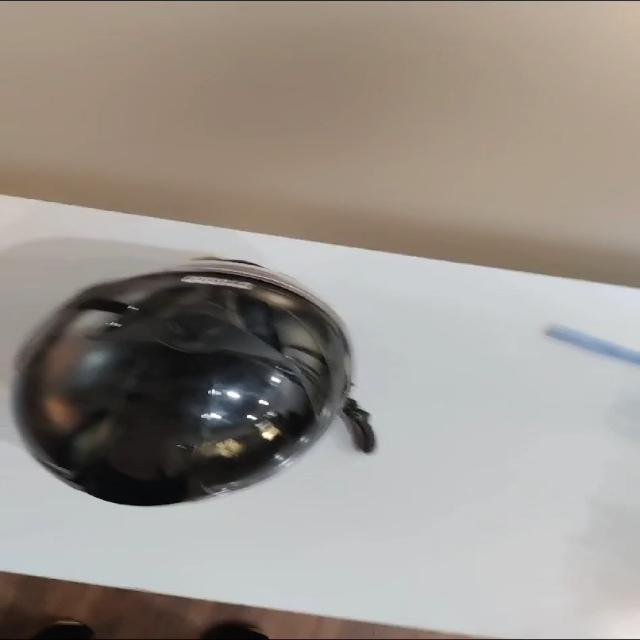helmet: (19, 252, 364, 520)
